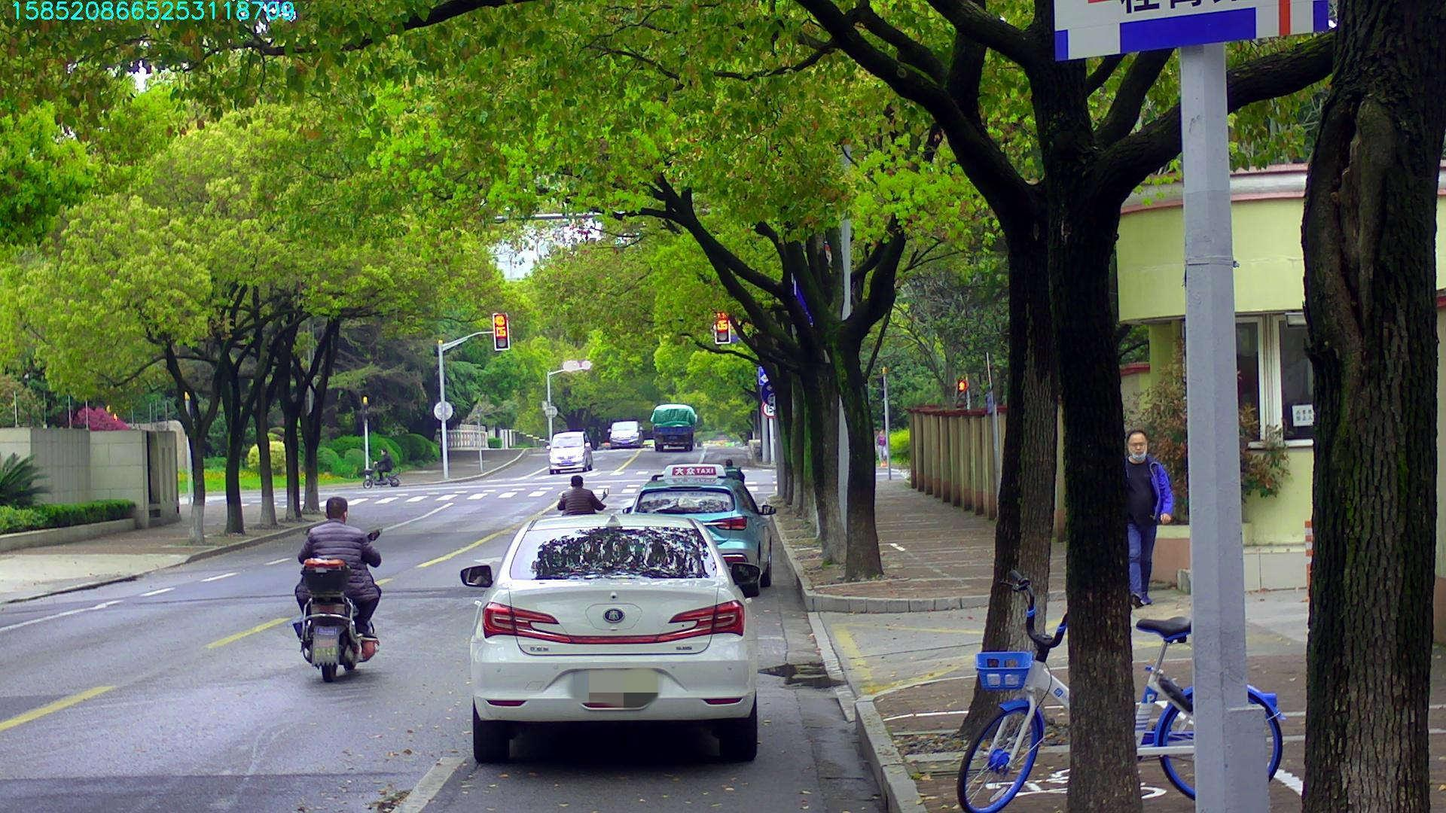red: (493, 313, 508, 349), (714, 312, 728, 343)
